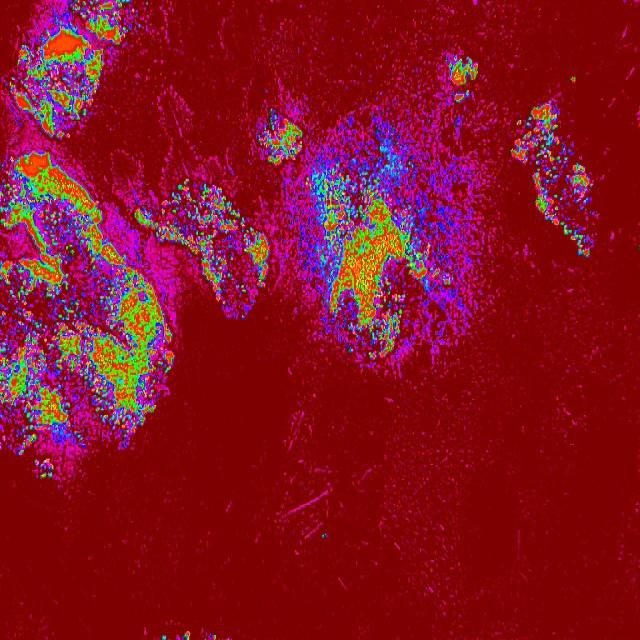fire: (304, 117, 460, 366), (0, 253, 135, 454), (134, 179, 270, 320), (7, 0, 133, 139), (510, 94, 600, 260), (1, 150, 117, 252), (134, 320, 174, 431), (256, 109, 302, 165), (445, 54, 479, 104), (30, 458, 56, 479), (181, 630, 193, 640), (206, 632, 217, 640), (569, 75, 577, 86), (136, 22, 143, 29), (159, 634, 167, 640), (145, 2, 149, 6)
